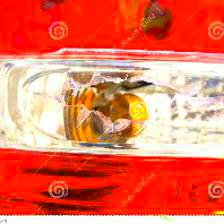tail_lamp: (38, 48, 220, 151)
